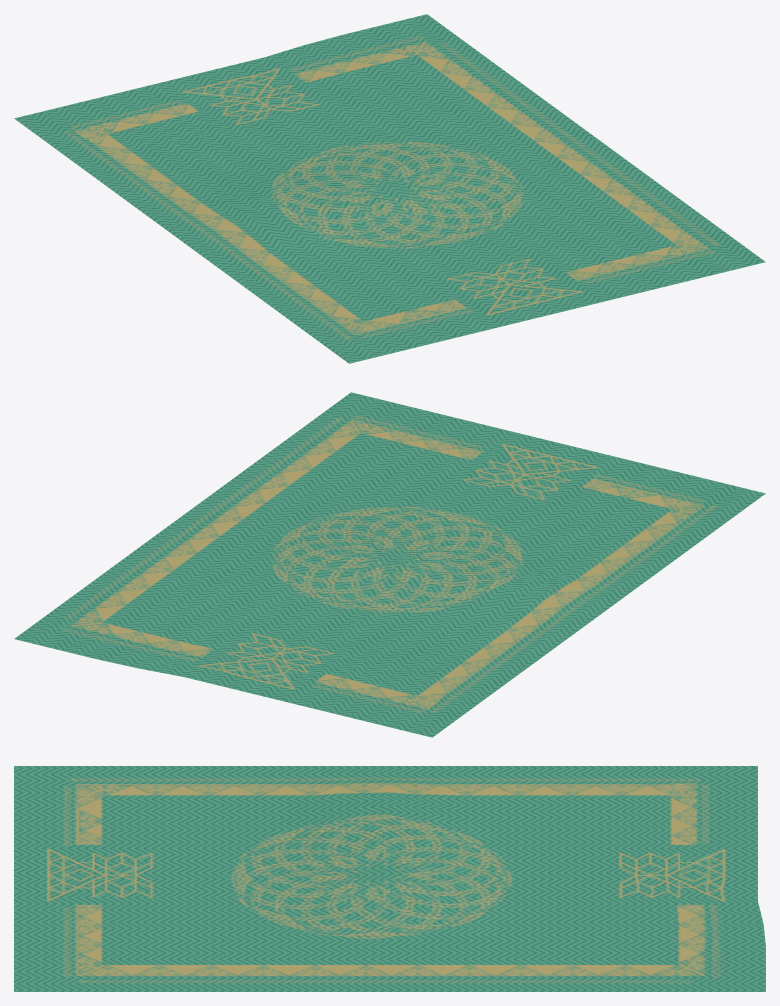
File: carpet_07.fbx
The picture shows the model from 3 angles, top to bottom: view 1: azimuth 30°, elevation 25°; view 2: azimuth 150°, elevation 25°; view 3: azimuth 270°, elevation 25°; orthographic projection. The views are drawn at different scales.
Parts seen in each view (by area): view 1: pPlane7; view 2: pPlane7; view 3: pPlane7.
Boxes of the visible parts, x1,y1,x2,y2 form: pPlane7: (14,14,765,363); pPlane7: (14,392,765,737); pPlane7: (14,766,765,991).
Bounding box in the file's own units: 3.6 × 0.0442 × 5.07.
